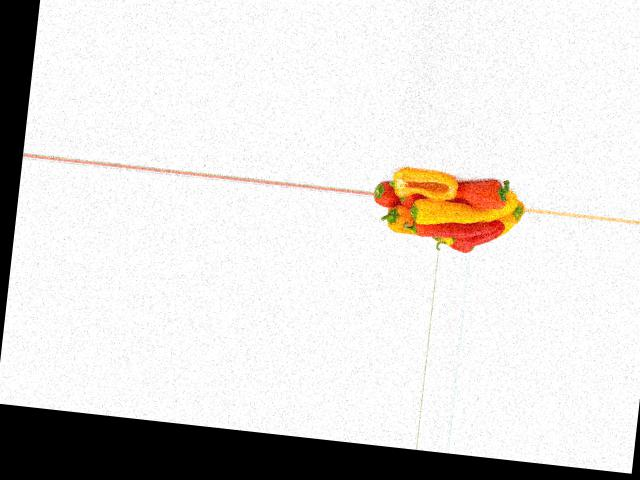bell_pepper: (371, 180, 417, 215)
